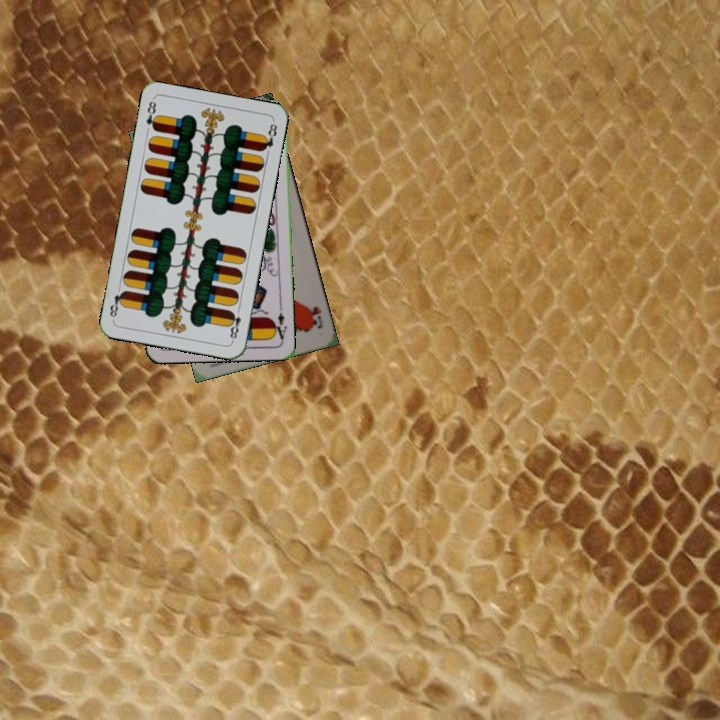E8: (225, 303, 244, 344), (142, 96, 161, 134)
EA: (270, 303, 289, 343)
HO: (304, 302, 326, 331)
